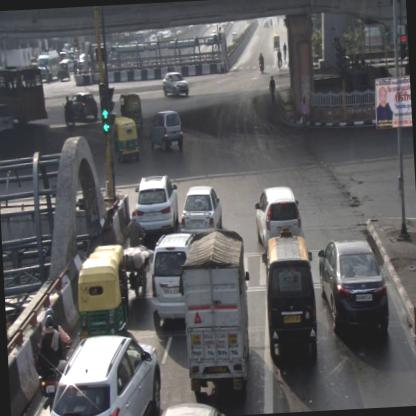bus: (0, 65, 48, 127), (36, 47, 60, 82)
car: (37, 332, 163, 415), (262, 232, 316, 367), (316, 238, 389, 334), (148, 230, 202, 328), (252, 185, 304, 249), (130, 172, 180, 234), (180, 183, 223, 237), (148, 108, 183, 154), (69, 92, 98, 120), (161, 72, 190, 98)
motorcycle: (35, 306, 74, 409), (126, 212, 148, 300), (258, 51, 266, 71), (276, 48, 282, 70)
truck: (180, 229, 257, 396)
